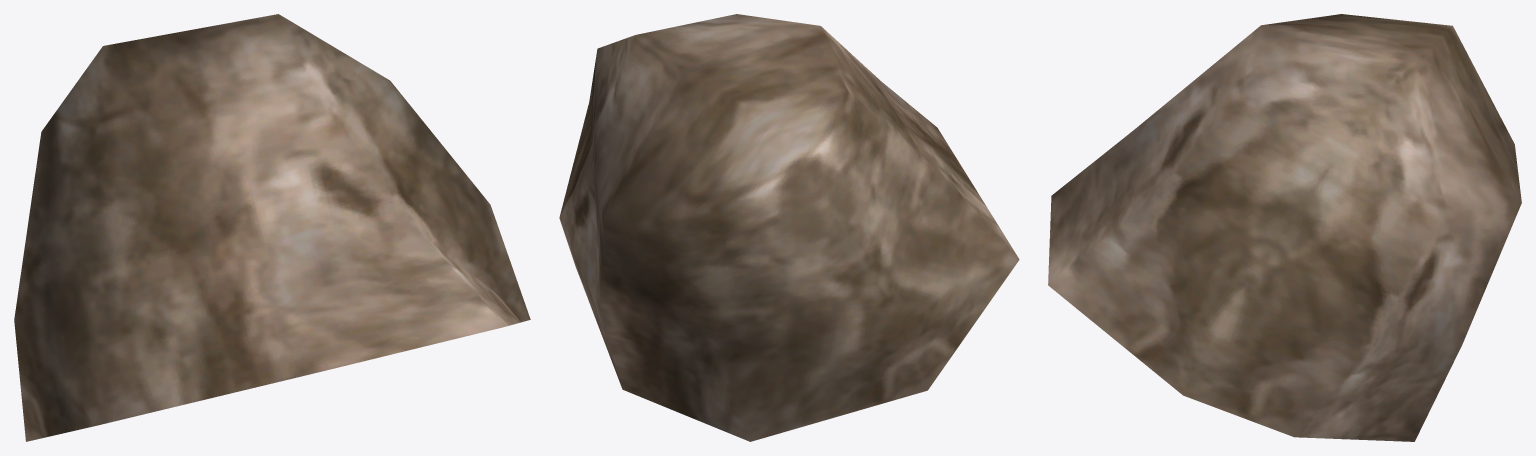
File: OVERHILL_A_01_ROCK34.fbx
3 renders of one model, left to right at view 1: azimuth 30°, elevation 25°; view 2: azimuth 150°, elevation 25°; view 3: azimuth 270°, elevation 25°, orthographic. The views are drawn at different scales.
Parts seen in each view (by area): view 1: OVERHILL_A_01_ROCK34; view 2: OVERHILL_A_01_ROCK34; view 3: OVERHILL_A_01_ROCK34.
Boxes of the visible parts, x1,y1,x2,y2 form: OVERHILL_A_01_ROCK34: [14, 14, 530, 441]; OVERHILL_A_01_ROCK34: [559, 14, 1019, 441]; OVERHILL_A_01_ROCK34: [1048, 14, 1521, 441].
Size of the model in its own units: 27805 by 23375 by 26862.
1 material, 1 textured.
